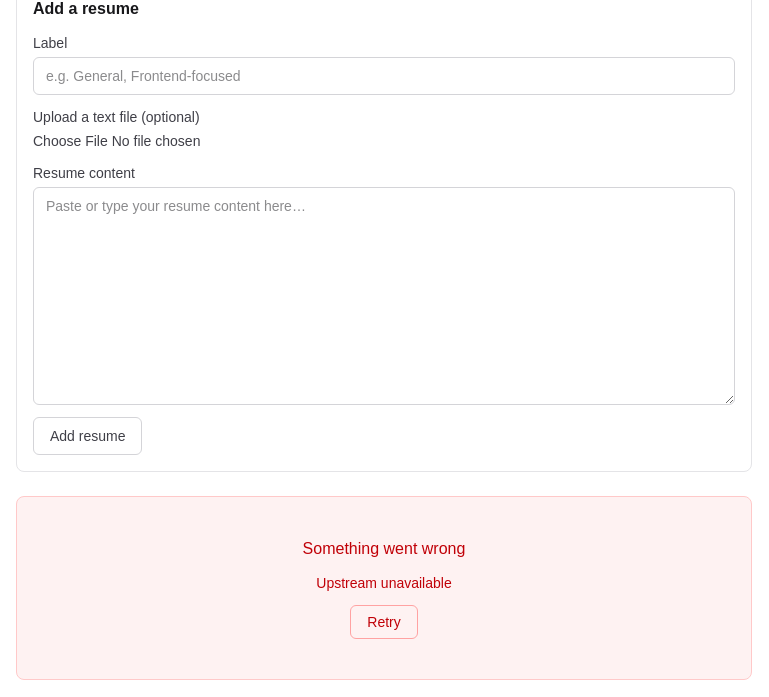
ResumeManagerScreen › shows an error state with retry when loading resumes fails
The width and height of the screenshot is (769, 697).
(page scrolled)
Expected: the message shows "Upstream unavailable", [316,575,452,591]
Click the button "Retry".
click(384, 622)  # box [350,605,418,639]
(page scrolled)
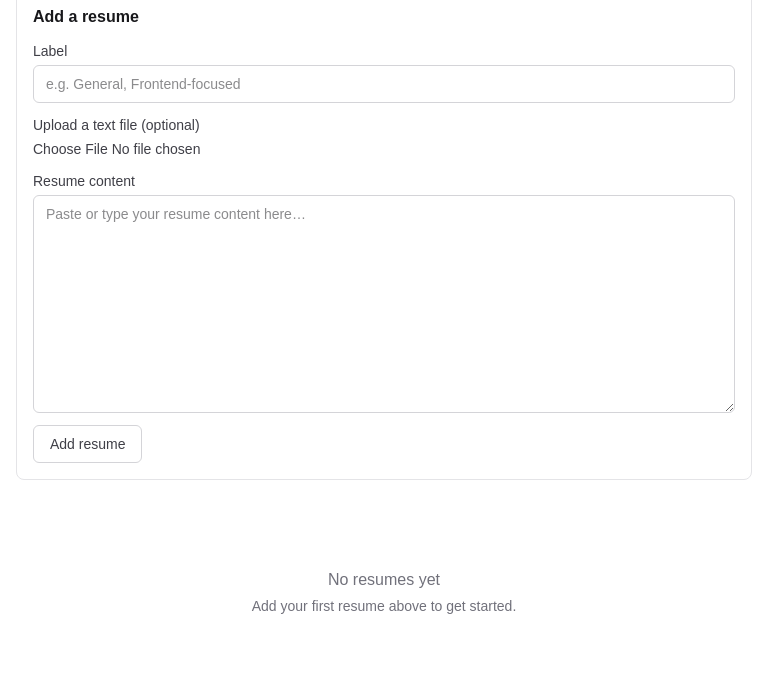
Result: the text "No resumes yet" is shown at [328,568,440,592]
